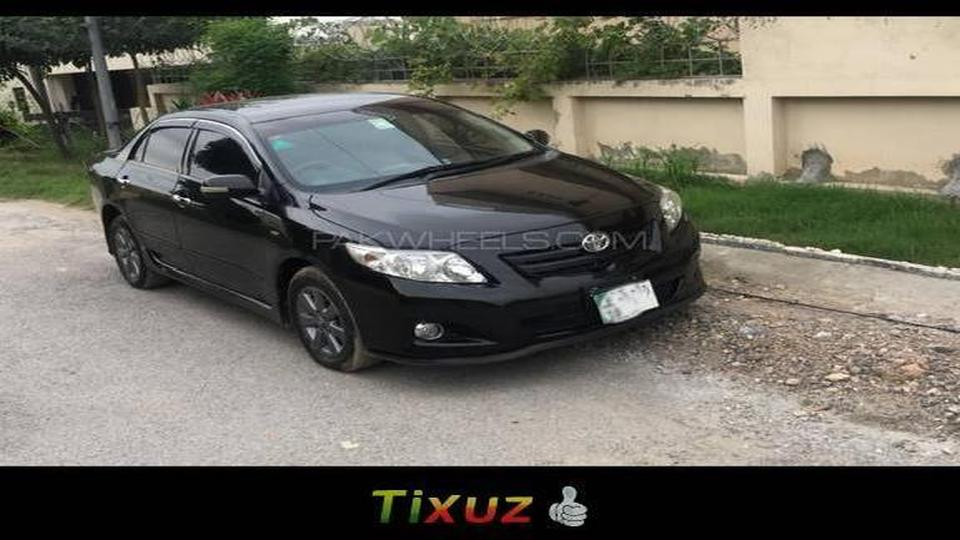NumberPlate: (589, 274, 673, 331)
